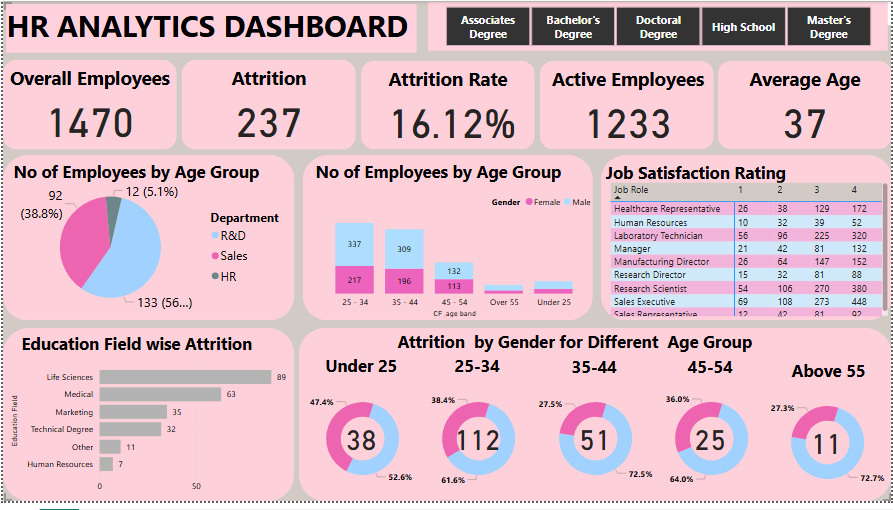

The dashboard page shown, as its layout file describes it:
{"tool":"powerbi","page":{"name":"Page 1","canvas":[1280,720],"ordinal":0},"visuals":[{"type":"shape","box":[0,84.4,250,128.8],"z":0,"group":"g2"},{"type":"shape","box":[426.8,471.1,853.2,248.9],"z":0},{"type":"shape","box":[0,0,1280.6,720.8],"z":1000},{"type":"shape","box":[257.5,84.4,250,128.8],"z":1000,"group":"g2"},{"type":"shape","box":[4.3,4.3,591.5,70.2],"z":2000},{"type":"shape","box":[515,85.4,250,126.9],"z":2000,"group":"g2"},{"type":"shape","box":[0,221.3,419.3,238.3],"z":2000,"group":"g1"},{"type":"shape","box":[773.1,86.3,250,126.9],"z":3000,"group":"g2"},{"type":"shape","box":[0,470.2,419.1,248.9],"z":3000},{"type":"group","id":"g1","title":"Group 2","box":[0,221.3,1280.9,238.3],"z":4000},{"type":"shape","box":[432.2,221.3,417.3,238.3],"z":4000,"group":"g1"},{"type":"shape","box":[861.4,221.3,419.4,238.3],"z":5000,"group":"g1"},{"type":"shape","box":[425.5,470.2,853.2,248.9],"z":5000},{"type":"textbox","box":[0,0.8,610.6,70.2],"z":6000},{"type":"group","id":"g2","title":"Group 1","box":[0,84.4,1280,128.8],"z":7000},{"type":"card","fields":{"Values":["allmeasures.Overall Employees"]},"box":[28.8,123,192.3,90.4],"z":7000,"group":"g3"},{"type":"card","fields":{"Values":["allmeasures.Attrition"]},"box":[286.5,123,192.3,90.4],"z":7000,"group":"g4"},{"type":"card","fields":{"Values":["allmeasures.Attrition Rate"]},"box":[546.2,124.8,201.9,90.4],"z":7000,"group":"g5"},{"type":"card","fields":{"Values":["allmeasures.Active Employee"]},"box":[803.8,124.8,192.3,90.4],"z":7000,"group":"g6"},{"type":"card","fields":{"Values":["allmeasures.Average Age"]},"box":[1058.1,124.8,192.3,90.4],"z":7000,"group":"g7"},{"type":"shape","box":[1030,86.3,250,126.9],"z":7001,"group":"g2"},{"type":"group","id":"g3","title":"Group 3","box":[0,86.5,250,126.9],"z":8000},{"type":"textbox","box":[0,86.5,250,51.9],"z":8000,"group":"g3"},{"type":"textbox","box":[257.7,86.5,250,51.9],"z":8000,"group":"g4"},{"type":"textbox","box":[515.4,88.3,250,51.9],"z":8000,"group":"g5"},{"type":"textbox","box":[775,88.3,250,51.9],"z":8000,"group":"g6"},{"type":"textbox","box":[1029.3,88.3,250,51.9],"z":8000,"group":"g7"},{"type":"group","id":"g4","title":"Group 3","box":[257.7,86.5,250,126.9],"z":9000},{"type":"textbox","box":[444.4,222.9,395.7,54.1],"z":9000,"group":"g8"},{"type":"textbox","box":[862.1,224.1,299,53.7],"z":9000,"group":"g9"},{"type":"textbox","box":[22.2,470.6,361.2,53.1],"z":9000,"group":"g10"},{"type":"textbox","box":[422.9,502.1,184.7,51.4],"z":9000,"group":"g11"},{"type":"textbox","box":[590.5,502.1,184.7,51.4],"z":9000,"group":"g12"},{"type":"textbox","box":[758,503.5,184.7,51.4],"z":9000,"group":"g13"},{"type":"textbox","box":[925.6,503.5,184.7,51.4],"z":9000,"group":"g14"},{"type":"textbox","box":[1092.9,509.4,184.7,51.4],"z":9000,"group":"g15"},{"type":"group","id":"g5","title":"Group 3","box":[515.4,88.3,250,126.9],"z":10000},{"type":"textbox","box":[9.8,223.5,396.1,54.9],"z":11000},{"type":"group","id":"g6","title":"Group 3","box":[775,88.3,250,126.9],"z":12000},{"type":"group","id":"g7","title":"Group 3","box":[1029.3,88.3,250,126.9],"z":13000},{"type":"pivotTable","fields":{"Rows":["HR Data xlsx - HR data.Job Role"],"Columns":["HR Data xlsx - HR data.Job Satisfaction"],"Values":["Sum(HR Data xlsx - HR data.Job Satisfaction)"]},"box":[869.4,255.1,409.9,203.5],"z":13000,"group":"g9"},{"type":"columnChart","fields":{"Category":["HR Data xlsx - HR data.CF_age band"],"Y":["allmeasures.Overall Employees"],"Series":["HR Data xlsx - HR data.Gender"]},"box":[444.4,268.6,410.9,191.1],"z":13000,"group":"g8"},{"type":"barChart","fields":{"Category":["HR Data xlsx - HR data.Education Field"],"Y":["allmeasures.Attrition"]},"box":[6.1,508.2,414.3,208.2],"z":13000,"group":"g10"},{"type":"donutChart","fields":{"Category":["HR Data xlsx - HR data.Gender"],"Y":["allmeasures.Attrition"]},"box":[427,545.8,180.4,168.6],"z":13000,"group":"g11"},{"type":"donutChart","fields":{"Category":["HR Data xlsx - HR data.Gender"],"Y":["allmeasures.Attrition"]},"box":[594.6,545.8,180.4,168.6],"z":13000,"group":"g12"},{"type":"donutChart","fields":{"Category":["HR Data xlsx - HR data.Gender"],"Y":["allmeasures.Attrition"]},"box":[762.1,545.8,180.4,168.6],"z":13000,"group":"g13"},{"type":"donutChart","fields":{"Category":["HR Data xlsx - HR data.Gender"],"Y":["allmeasures.Attrition"]},"box":[929.7,545.8,180.4,168.6],"z":13000,"group":"g14"},{"type":"donutChart","fields":{"Category":["HR Data xlsx - HR data.Gender"],"Y":["allmeasures.Attrition"]},"box":[1097,551.7,180.4,168.6],"z":13000,"group":"g15"},{"type":"group","id":"g8","title":"Group 4","box":[444.4,222.9,410.9,236.7],"z":14000},{"type":"pieChart","fields":{"Y":["allmeasures.Attrition"],"Category":["HR Data xlsx - HR data.Department"]},"box":[5.9,251,413.7,207.8],"z":15000},{"type":"group","id":"g9","title":"Group 4","box":[862.1,224.1,417.2,234.5],"z":16000},{"type":"group","id":"g10","title":"Group 4","box":[6.1,470.6,414.3,245.8],"z":17000},{"type":"group","id":"g11","title":"Group 5","box":[422.9,502.1,184.7,212.3],"z":18000,"group":"g16"},{"type":"group","id":"g12","title":"Group 5","box":[590.5,502.1,184.7,212.3],"z":19000,"group":"g16"},{"type":"card","fields":{"Values":["allmeasures.Attrition"]},"box":[467.4,588.1,96.1,76.5],"z":19000,"group":"g11"},{"type":"card","fields":{"Values":["allmeasures.Attrition"]},"box":[635,588.1,96.1,76.5],"z":19000,"group":"g12"},{"type":"card","fields":{"Values":["allmeasures.Attrition"]},"box":[802.5,588.1,96.1,76.5],"z":19000,"group":"g13"},{"type":"card","fields":{"Values":["allmeasures.Attrition"]},"box":[970.1,588.1,96.1,76.5],"z":19000,"group":"g14"},{"type":"card","fields":{"Values":["allmeasures.Attrition"]},"box":[1137.4,594,96.1,76.5],"z":19000,"group":"g15"},{"type":"group","id":"g13","title":"Group 5","box":[758,503.5,184.7,210.9],"z":20000,"group":"g16"},{"type":"group","id":"g14","title":"Group 5","box":[925.6,503.5,184.7,210.9],"z":21000,"group":"g16"},{"type":"group","id":"g15","title":"Group 5","box":[1092.9,509.4,184.7,210.9],"z":22000,"group":"g16"},{"type":"group","id":"g16","title":"Group 6","box":[422.9,502.1,854.7,218.2],"z":22001},{"type":"textbox","box":[563.5,467.3,563.5,55.8],"z":22002},{"type":"slicer","fields":{"Values":["HR Data xlsx - HR data.Education"]},"box":[611.5,1.9,661.5,70],"z":22003}]}

Visuals, with their boxes in screenshot pixels (x1, y1, x2, y2), scaled from the page's 1280x720 canvas onto the 893x510 screenshot:
shape: select_region(0, 60, 174, 151)
shape: select_region(298, 334, 892, 509)
shape: select_region(0, 0, 892, 509)
shape: select_region(180, 60, 354, 151)
shape: select_region(3, 3, 416, 53)
shape: select_region(359, 60, 534, 150)
shape: select_region(0, 157, 293, 326)
shape: select_region(539, 61, 714, 151)
shape: select_region(0, 333, 292, 509)
"Group 2" group: select_region(0, 157, 892, 326)
shape: select_region(302, 157, 593, 326)
shape: select_region(601, 157, 892, 326)
shape: select_region(297, 333, 892, 509)
textbox: select_region(0, 1, 426, 50)
"Group 1" group: select_region(0, 60, 892, 151)
card - allmeasures.Overall Employees: select_region(20, 87, 154, 151)
card - allmeasures.Attrition: select_region(200, 87, 334, 151)
card - allmeasures.Attrition Rate: select_region(381, 88, 522, 152)
card - allmeasures.Active Employee: select_region(561, 88, 695, 152)
card - allmeasures.Average Age: select_region(738, 88, 872, 152)
shape: select_region(719, 61, 892, 151)
"Group 3" group: select_region(0, 61, 174, 151)
textbox: select_region(0, 61, 174, 98)
textbox: select_region(180, 61, 354, 98)
textbox: select_region(360, 63, 534, 99)
textbox: select_region(541, 63, 715, 99)
textbox: select_region(718, 63, 892, 99)
"Group 3" group: select_region(180, 61, 354, 151)
textbox: select_region(310, 158, 586, 196)
textbox: select_region(601, 159, 810, 197)
textbox: select_region(15, 333, 267, 371)
textbox: select_region(295, 356, 424, 392)
textbox: select_region(412, 356, 541, 392)
textbox: select_region(529, 357, 658, 393)
textbox: select_region(646, 357, 775, 393)
textbox: select_region(762, 361, 891, 397)
"Group 3" group: select_region(360, 63, 534, 152)
textbox: select_region(7, 158, 283, 197)
"Group 3" group: select_region(541, 63, 715, 152)
"Group 3" group: select_region(718, 63, 892, 152)
pivotTable - HR Data xlsx - HR data.Job Role x HR Data xlsx - HR data.Job Satisfaction: select_region(607, 181, 892, 325)
columnChart - HR Data xlsx - HR data.CF_age band x allmeasures.Overall Employees: select_region(310, 190, 597, 326)
barChart - HR Data xlsx - HR data.Education Field x allmeasures.Attrition: select_region(4, 360, 293, 507)
donutChart - HR Data xlsx - HR data.Gender x allmeasures.Attrition: select_region(298, 387, 424, 506)
donutChart - HR Data xlsx - HR data.Gender x allmeasures.Attrition: select_region(415, 387, 541, 506)
donutChart - HR Data xlsx - HR data.Gender x allmeasures.Attrition: select_region(532, 387, 658, 506)
donutChart - HR Data xlsx - HR data.Gender x allmeasures.Attrition: select_region(649, 387, 774, 506)
donutChart - HR Data xlsx - HR data.Gender x allmeasures.Attrition: select_region(765, 391, 891, 509)
"Group 4" group: select_region(310, 158, 597, 326)
pieChart - allmeasures.Attrition x HR Data xlsx - HR data.Department: select_region(4, 178, 293, 325)
"Group 4" group: select_region(601, 159, 892, 325)
"Group 4" group: select_region(4, 333, 293, 507)
"Group 5" group: select_region(295, 356, 424, 506)
"Group 5" group: select_region(412, 356, 541, 506)
card - allmeasures.Attrition: select_region(326, 417, 393, 471)
card - allmeasures.Attrition: select_region(443, 417, 510, 471)
card - allmeasures.Attrition: select_region(560, 417, 627, 471)
card - allmeasures.Attrition: select_region(677, 417, 744, 471)
card - allmeasures.Attrition: select_region(794, 421, 861, 475)
"Group 5" group: select_region(529, 357, 658, 506)
"Group 5" group: select_region(646, 357, 775, 506)
"Group 5" group: select_region(762, 361, 891, 509)
"Group 6" group: select_region(295, 356, 891, 509)
textbox: select_region(393, 331, 786, 371)
slicer - HR Data xlsx - HR data.Education: select_region(427, 1, 888, 51)
